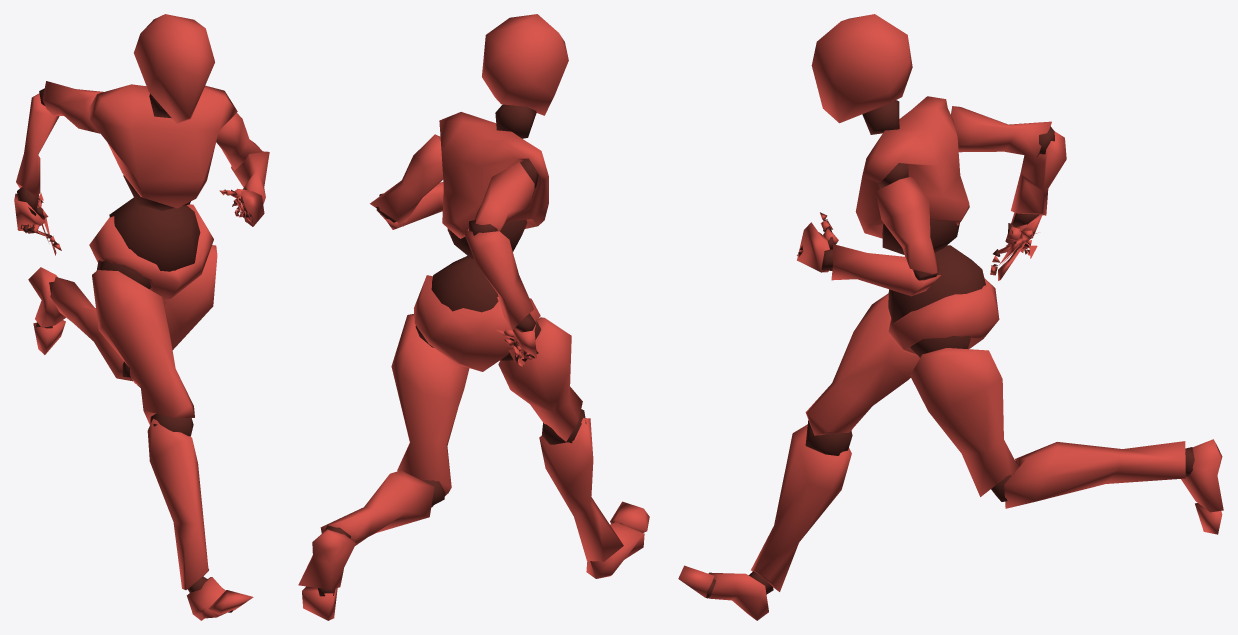
The picture shows the model from 3 angles, left to right: view 1: azimuth 30°, elevation 25°; view 2: azimuth 150°, elevation 25°; view 3: azimuth 270°, elevation 25°; orthographic projection. The views are drawn at different scales.
Visible parts, largest first — view 1: Beta_Surface.001; view 2: Beta_Surface.001; view 3: Beta_Surface.001.
Boxes of the visible parts, box(x1,y1,x2,y2) form: Beta_Surface.001: box(14, 14, 269, 620); Beta_Surface.001: box(298, 14, 649, 620); Beta_Surface.001: box(678, 14, 1223, 620).
Size of the model in its own units: 5.37 by 14.29 by 11.55.
